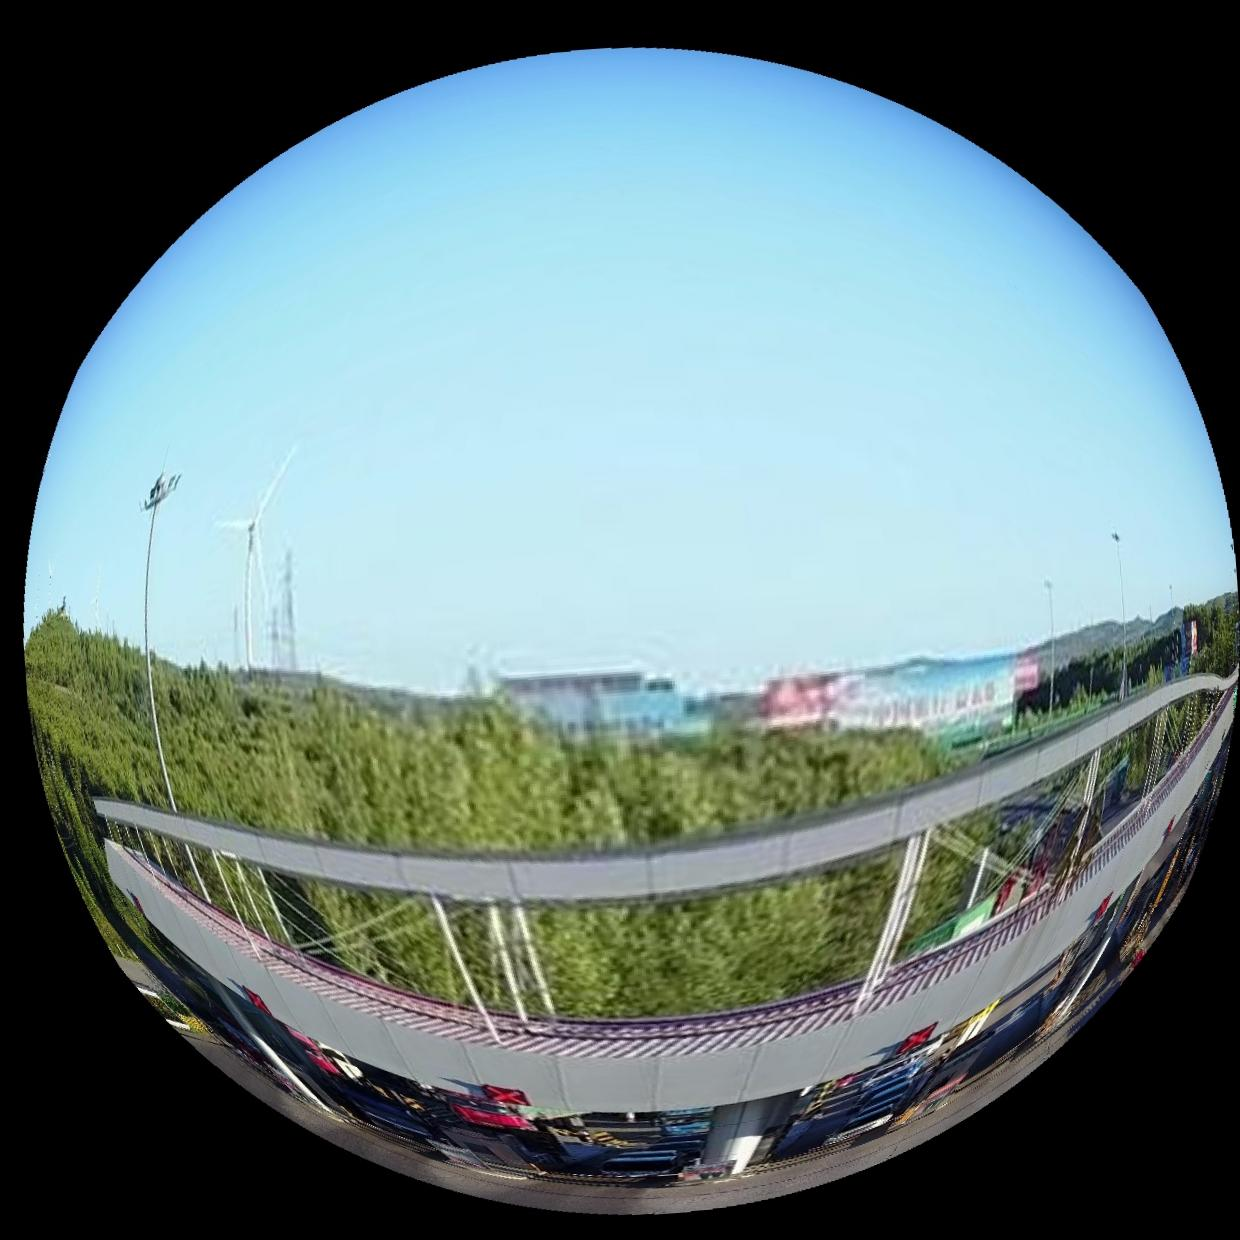trees: (152, 659, 967, 855), (100, 824, 906, 1018), (27, 613, 167, 811), (897, 802, 1042, 959)
